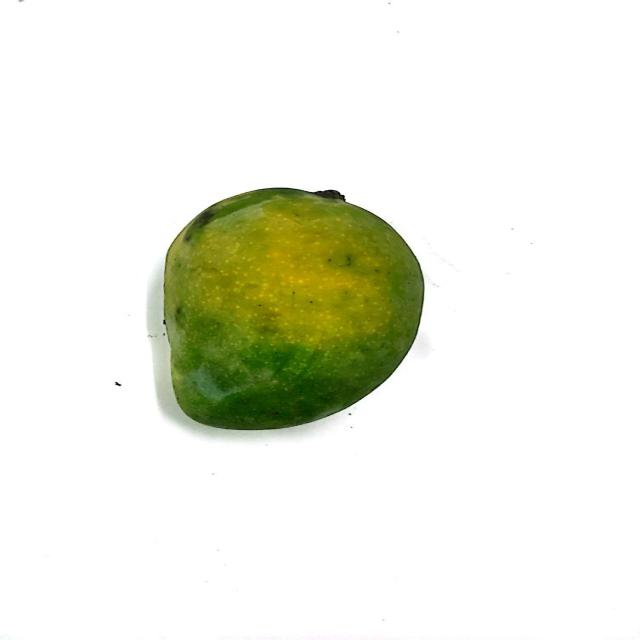fresh_mango: (161, 188, 425, 430)
